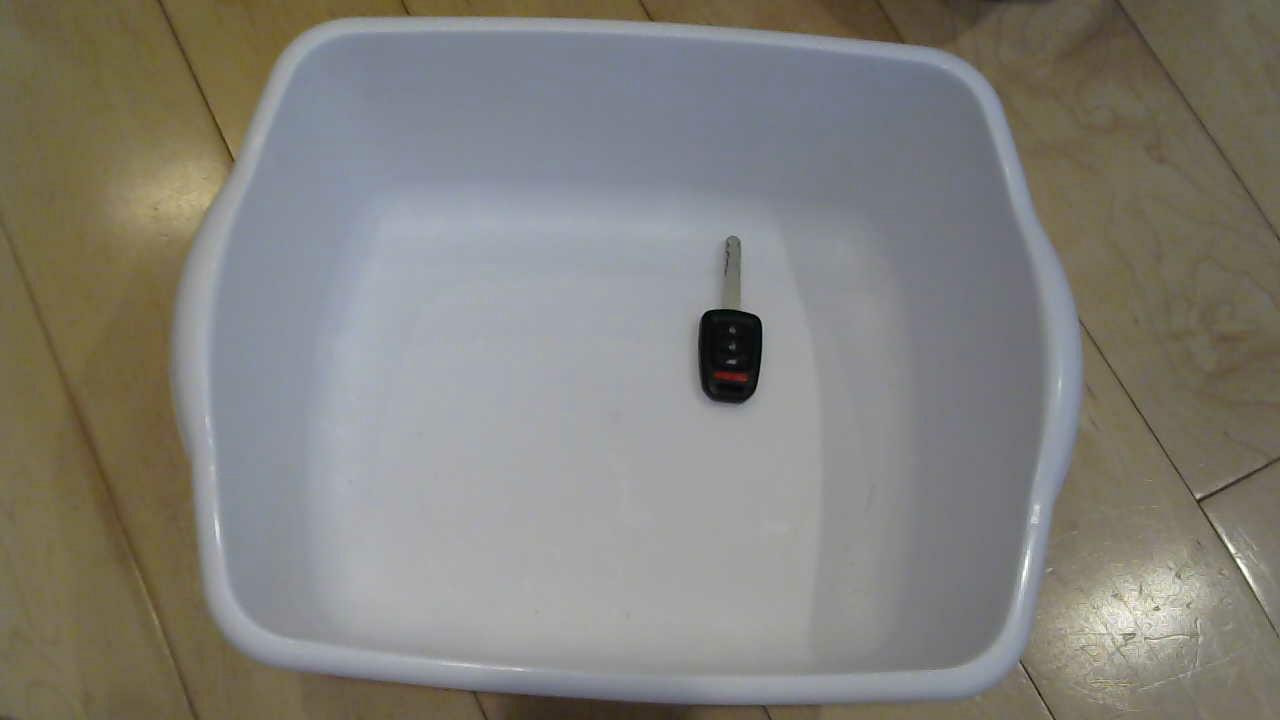key: (686, 225, 810, 430)
